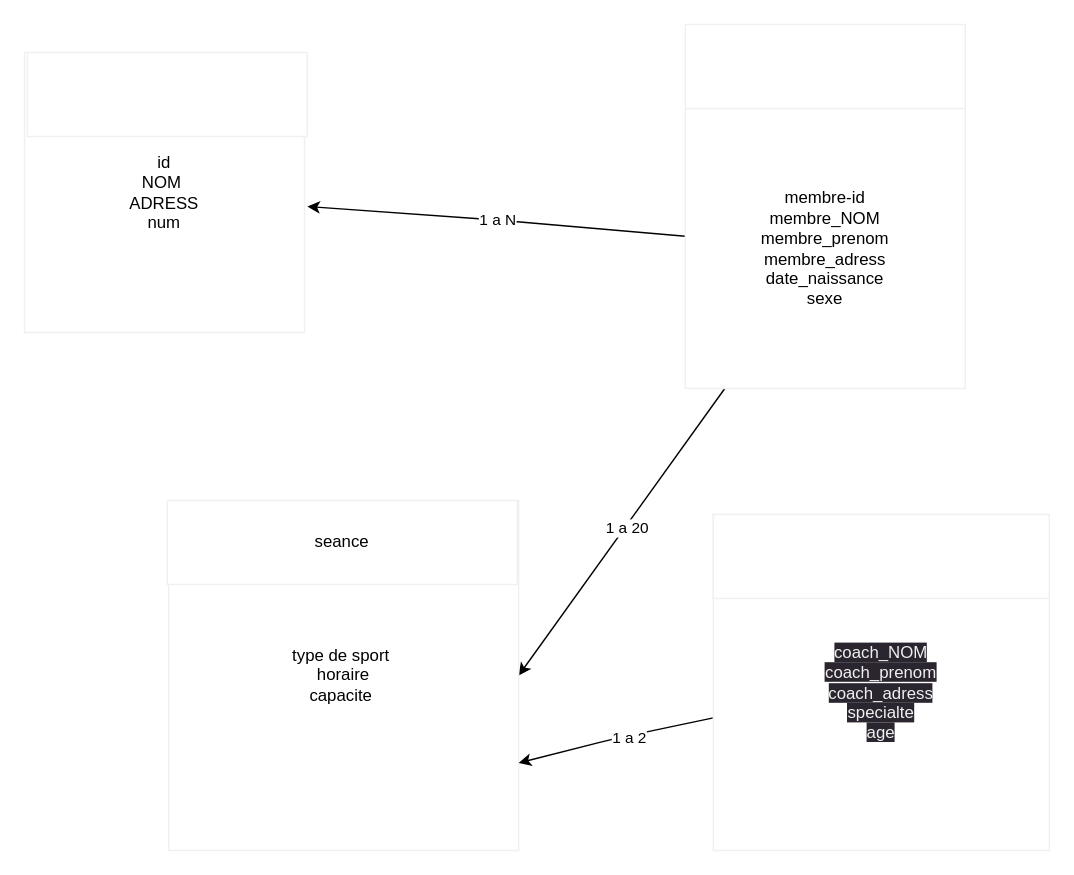
Some shapes in this 1074 by 875 pixel diagram are drawn without their labels. Here are the shapes that lost their labels. From the top down, the centre of each, then its label:
At (824,65): "membre".
At (166,93): "salle de sport".
At (880,555): "coach".
